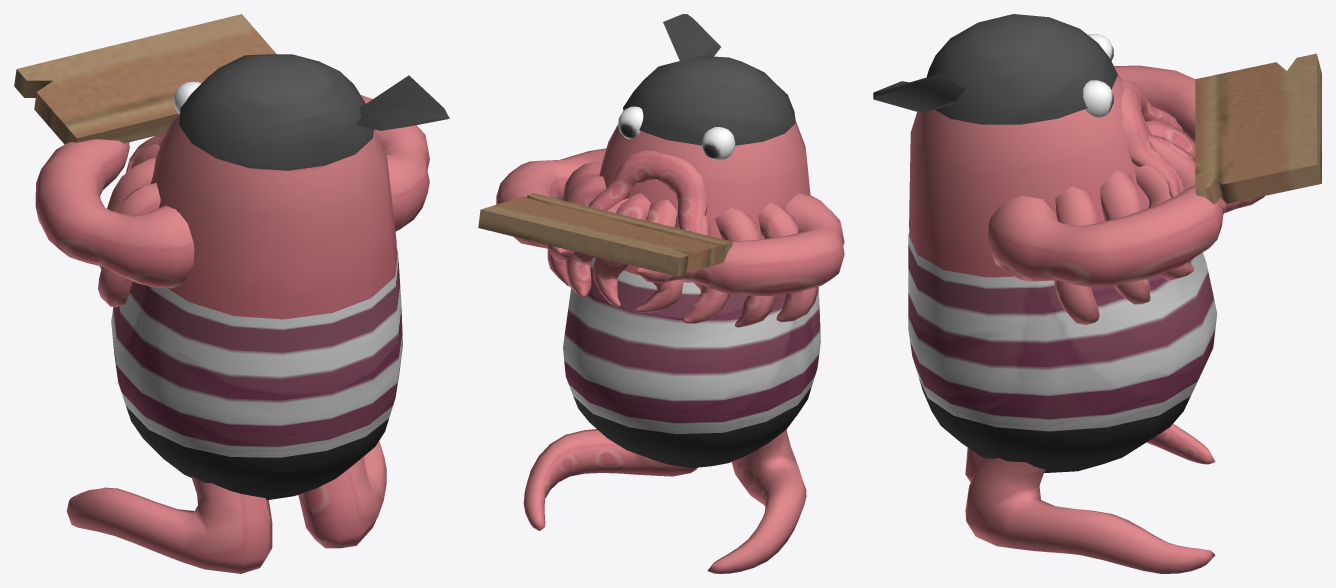
File: tako_idle_c_06.fbx
The picture shows the model from 3 angles, left to right: view 1: azimuth 30°, elevation 25°; view 2: azimuth 150°, elevation 25°; view 3: azimuth 270°, elevation 25°; orthographic projection. The views are drawn at different scales.
Parts seen in each view (by area): view 1: I_c_06; view 2: I_c_06; view 3: I_c_06.
Boxes of the visible parts, x1,y1,x2,y2 form: I_c_06: [14, 14, 449, 573]; I_c_06: [478, 14, 844, 573]; I_c_06: [873, 14, 1321, 573].
Bounding box in the file's own units: 1.38 × 1.73 × 1.44.
Materials: 1 (1 with a texture image).
